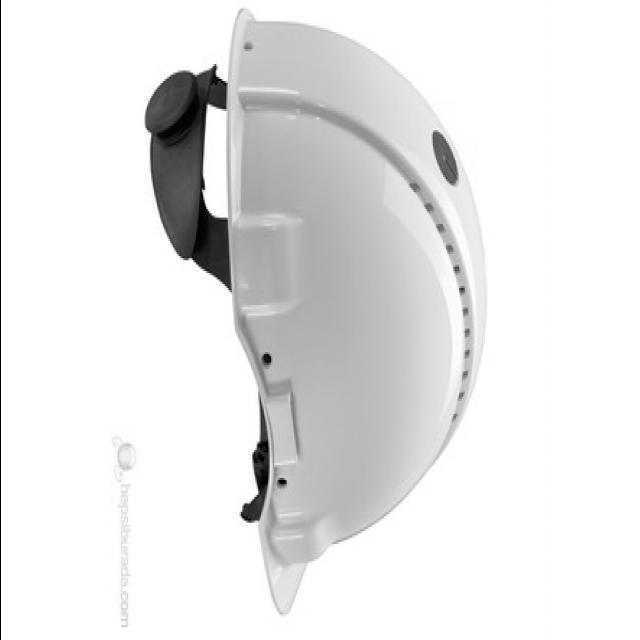safety_helmet: (143, 9, 487, 617)
